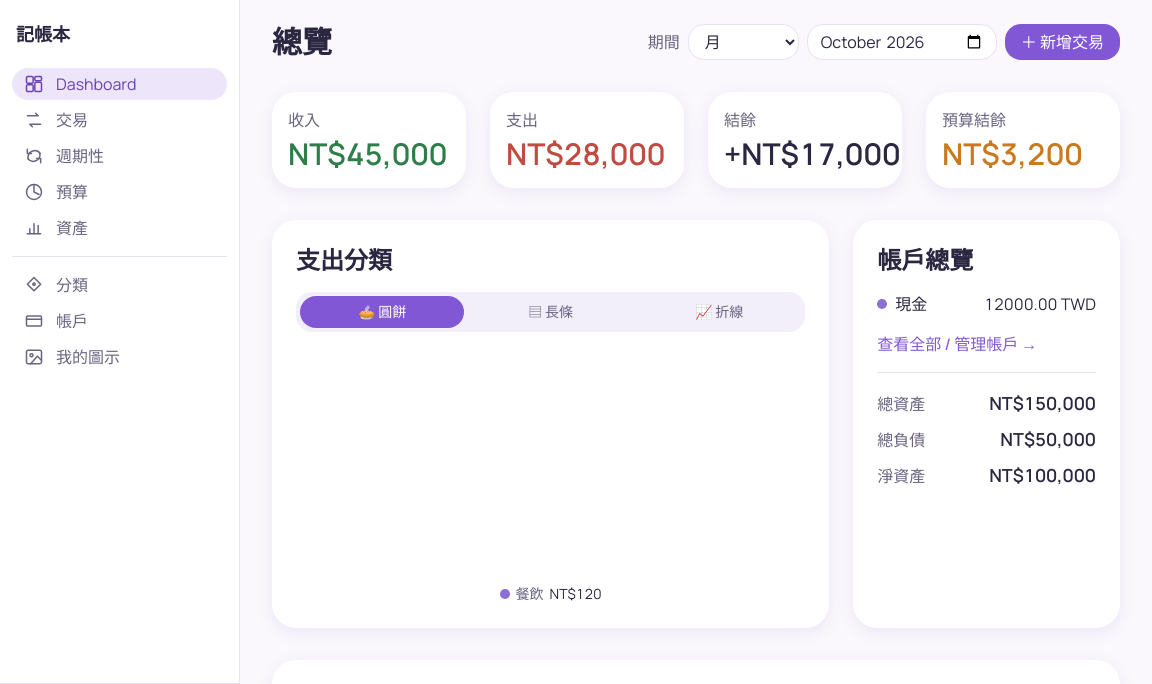
Scenario: DashboardPage › 切換期間為「年」時以整年範圍重新查詢，且預算結餘卡顯示後端估算後的數字（→ A7 2026-09-11 修訂）
Select "年" in the dropdown labelled "期間": point(743, 42) [688,24,799,60]
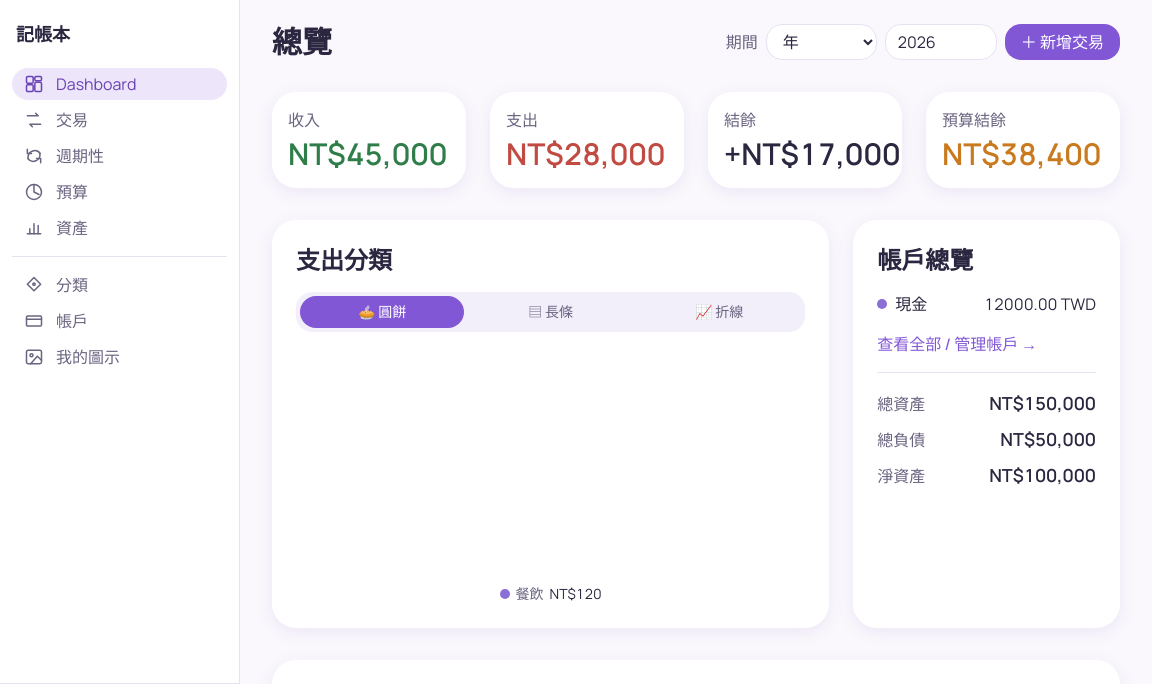
Expected: the text "NT$38,400" is shown, [942,136,1104,172]
